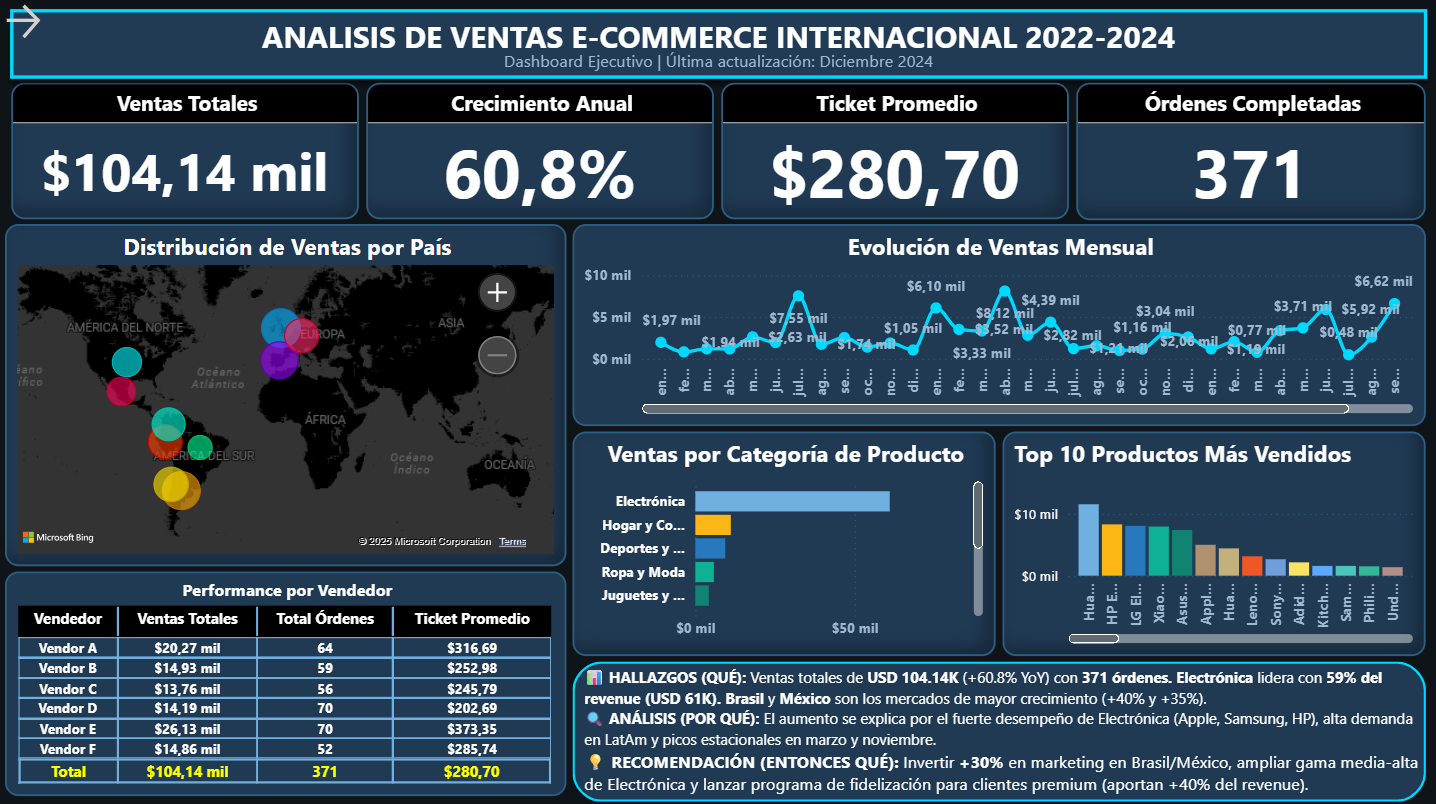

This screenshot's page, from the dashboard's own definition file:
{"tool":"powerbi","page":{"name":"Página 1","canvas":[1280,720],"ordinal":0},"visuals":[{"type":"card","title":"Ventas Totales","fields":{"Values":["_Medidas.Ventas Totales"]},"box":[10,75,310,121.9],"z":500},{"type":"shape","box":[0,0,1280,80],"z":1000},{"type":"textbox","box":[0,10,1280,45],"z":3000},{"type":"textbox","box":[0,40,1280,35],"z":5000},{"type":"lineChart","title":"Evolución de Ventas Mensual","fields":{"Y":["_Medidas.Ventas Totales"],"Category":["Calendario.Nombre Mes-Año"]},"box":[510,200,760,180],"z":7000},{"type":"map","title":"Distribución de Ventas por País","fields":{"Category":["Clientes.País"],"Size":["_Medidas.Ventas Totales"],"Series":["Clientes.País"],"Y":["_Medidas.Ventas Totales"]},"box":[5,200,500,305],"z":8000},{"type":"barChart","title":"Ventas por Categoría de Producto","fields":{"Category":["Productos.Categoría"],"Y":["_Medidas.Ventas Totales"],"Series":["Productos.Categoría"]},"box":[510,385,377,200],"z":9000},{"type":"tableEx","title":"Performance por Vendedor","fields":{"Values":["Ventas.Vendedor","_Medidas.Ventas Totales","_Medidas.Total Órdenes","_Medidas.Ticket Promedio"]},"box":[5,510,500,200],"z":10000},{"type":"shape","box":[510,590,760,125],"z":11000},{"type":"textbox","box":[515,590,760,125],"z":12000},{"type":"actionButton","box":[0,0,50,40],"z":14000},{"type":"columnChart","title":"Top 10 Productos Más Vendidos","fields":{"Category":["Productos.Nombre Producto"],"Y":["_Medidas.Ventas Totales"],"Series":["Productos.Nombre Producto"]},"box":[893,385,377,200],"z":16000},{"type":"card","title":"Órdenes Completadas","fields":{"Values":["_Medidas.Total Órdenes"]},"box":[958.8,75,311.4,122.5],"z":17000},{"type":"card","title":"Ticket Promedio","fields":{"Values":["_Medidas.Ticket Promedio"]},"box":[642.6,75,310,121.9],"z":17500},{"type":"card","title":"Crecimiento Anual","fields":{"Values":["_Medidas.Porcentaje"]},"box":[326.3,75,310,121.9],"z":18000}]}

Visuals, with their boxes in screenshot pixels (x1, y1, x2, y2), scaled from the page's 1280x720 canvas onto the 1436x804 screenshot:
"Ventas Totales" card: bbox=[11, 84, 359, 220]
shape: bbox=[0, 0, 1435, 89]
textbox: bbox=[0, 11, 1435, 61]
textbox: bbox=[0, 45, 1435, 84]
"Evolución de Ventas Mensual" lineChart: bbox=[572, 223, 1425, 424]
"Distribución de Ventas por País" map: bbox=[6, 223, 567, 564]
"Ventas por Categoría de Producto" barChart: bbox=[572, 430, 995, 653]
"Performance por Vendedor" tableEx: bbox=[6, 570, 567, 793]
shape: bbox=[572, 659, 1425, 798]
textbox: bbox=[578, 659, 1430, 798]
actionButton: bbox=[0, 0, 56, 45]
"Top 10 Productos Más Vendidos" columnChart: bbox=[1002, 430, 1425, 653]
"Órdenes Completadas" card: bbox=[1076, 84, 1425, 221]
"Ticket Promedio" card: bbox=[721, 84, 1069, 220]
"Crecimiento Anual" card: bbox=[366, 84, 714, 220]
